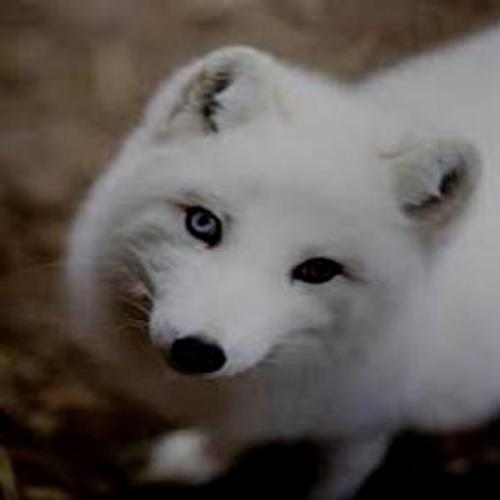arctic_fox-endangered: (66, 33, 500, 435)
